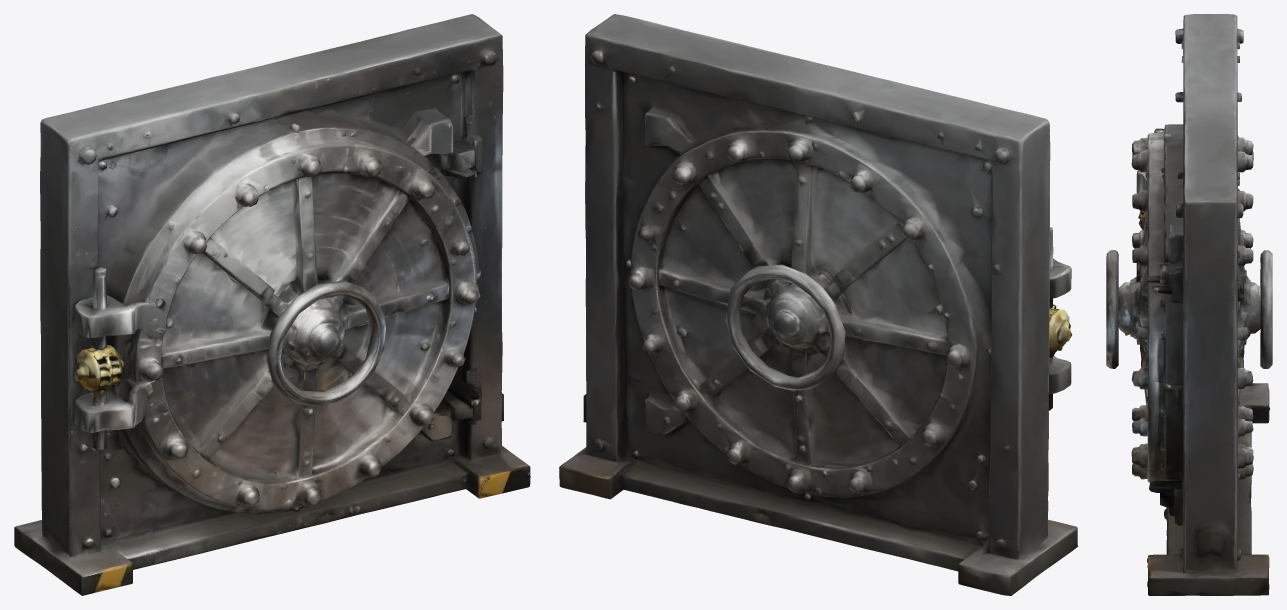
Rendered from vault-door.glb.
3 renders of one model, left to right at view 1: azimuth 30°, elevation 25°; view 2: azimuth 150°, elevation 25°; view 3: azimuth 270°, elevation 25°, orthographic. The views are drawn at different scales.
Visible parts, largest first — view 1: tripo_node_17610b37-3fdb-4d16-8b1d-105f9c81feab; view 2: tripo_node_17610b37-3fdb-4d16-8b1d-105f9c81feab; view 3: tripo_node_17610b37-3fdb-4d16-8b1d-105f9c81feab.
Boxes of the visible parts, x1,y1,x2,y2 form: tripo_node_17610b37-3fdb-4d16-8b1d-105f9c81feab: [14, 14, 530, 595]; tripo_node_17610b37-3fdb-4d16-8b1d-105f9c81feab: [559, 14, 1077, 595]; tripo_node_17610b37-3fdb-4d16-8b1d-105f9c81feab: [1106, 14, 1272, 595].
Size of the model in its own units: 1 by 0.9327 by 0.3594.
1 material, 1 textured.
